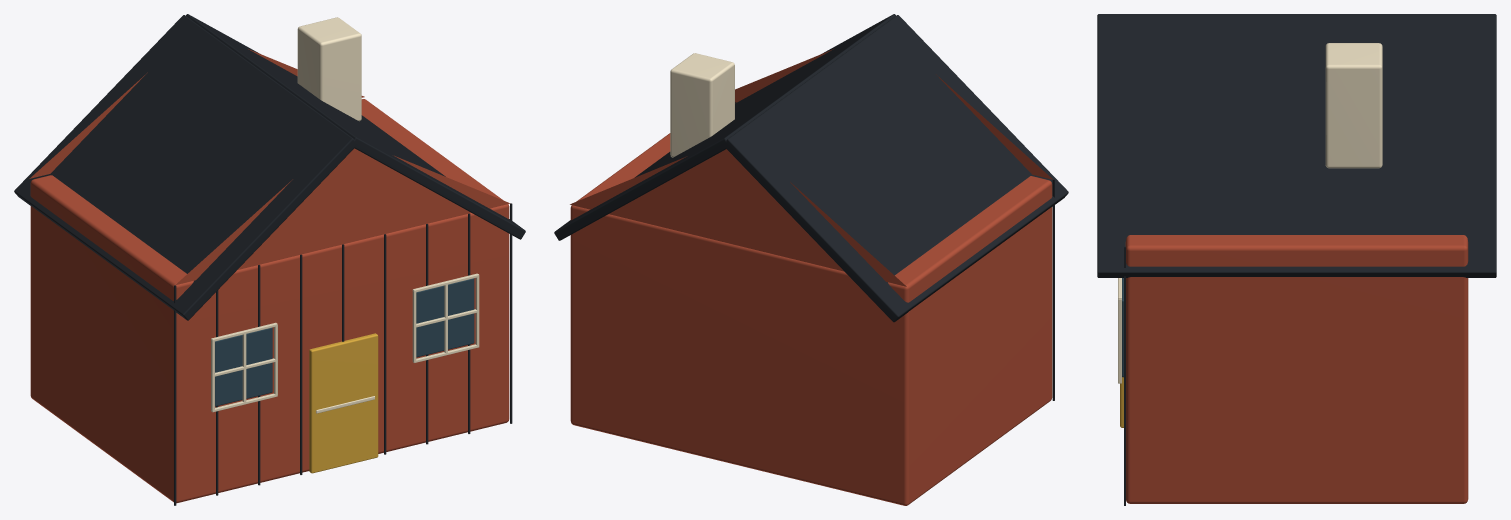
File: cabin.glb
3 renders of one model, left to right at view 1: azimuth 30°, elevation 25°; view 2: azimuth 150°, elevation 25°; view 3: azimuth 270°, elevation 25°, orthographic. The views are drawn at different scales.
Visible parts, largest first — view 1: red, ink, ivory, yellow, glass; view 2: red, ink, ivory; view 3: red, ink, ivory.
Part boxes in pixels (x1=…): red: x1=29, y1=49, x2=510, y2=503; ink: x1=14, y1=14, x2=525, y2=505; ivory: x1=211, y1=17, x2=479, y2=413; yellow: x1=309, y1=333, x2=378, y2=473; glass: x1=215, y1=278, x2=474, y2=406; red: x1=570, y1=49, x2=1052, y2=505; ink: x1=554, y1=14, x2=1068, y2=400; ivory: x1=670, y1=53, x2=734, y2=157; red: x1=1125, y1=235, x2=1468, y2=503; ink: x1=1097, y1=14, x2=1496, y2=505; ivory: x1=1118, y1=43, x2=1382, y2=383.
Size of the model in its own units: 8.17 by 7.8 by 7.
